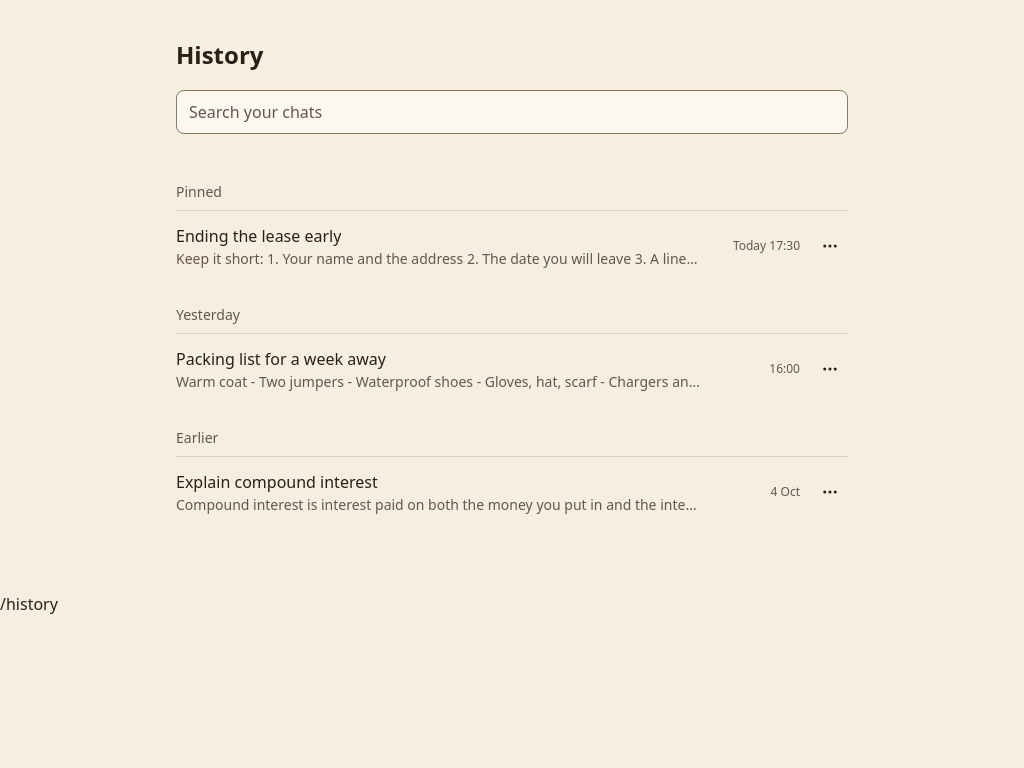
Test: History row actions › delete asks first: Keep it keeps, Delete chat deletes
The width and height of the screenshot is (1024, 768).
Click the button named "More for Ending the lease early" at [830, 246], box [812,228,848,264]
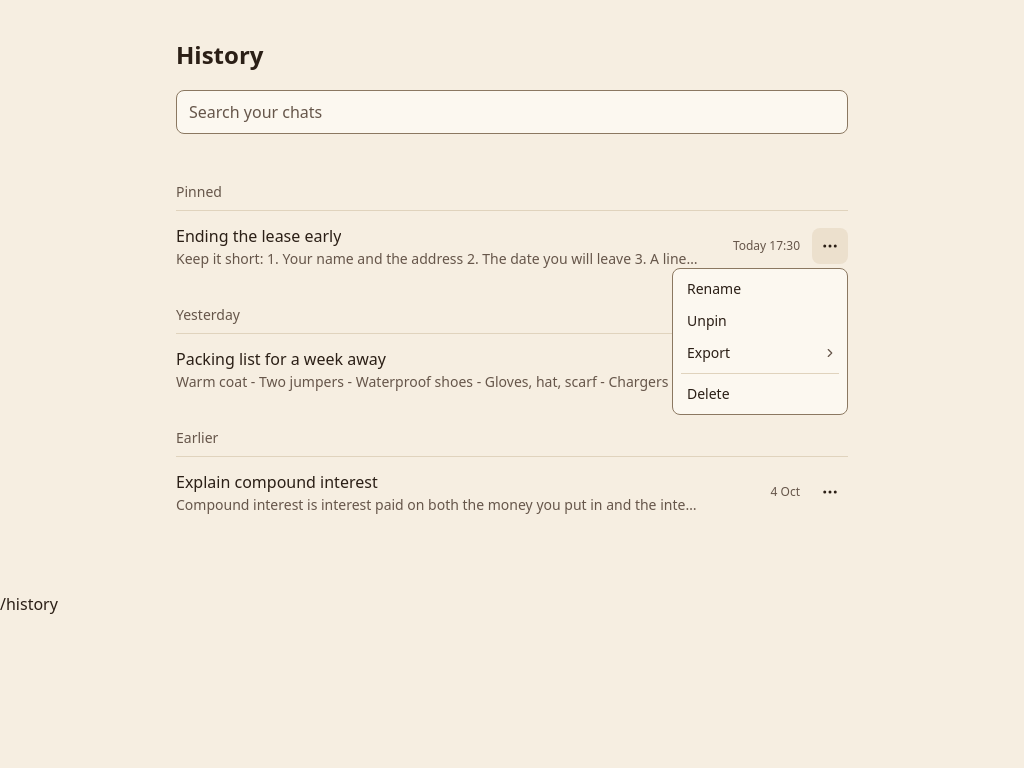
Click the menu item "Delete" at [708, 394], box [687,384,730,403]
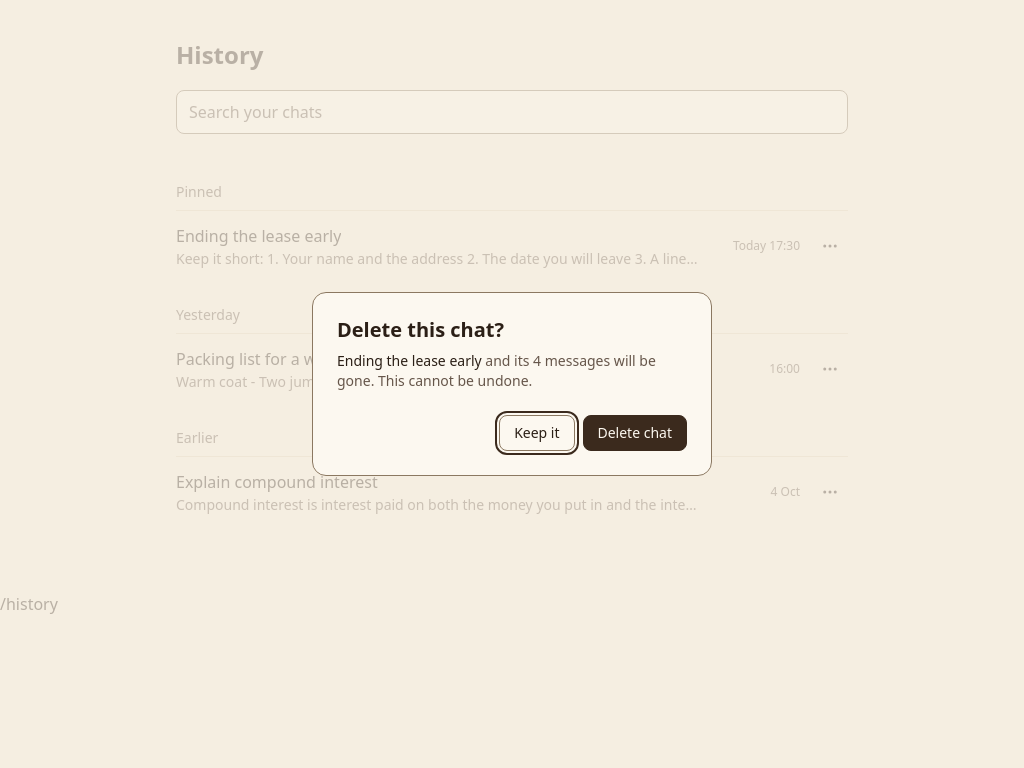
Expected: the dialog "Delete this chat?" shows "Ending the lease early and its 4 messages will be gone. This cannot be undone.", [312,292,712,476]
Click the button "Keep it" at [537, 433], box [499,415,574,451]
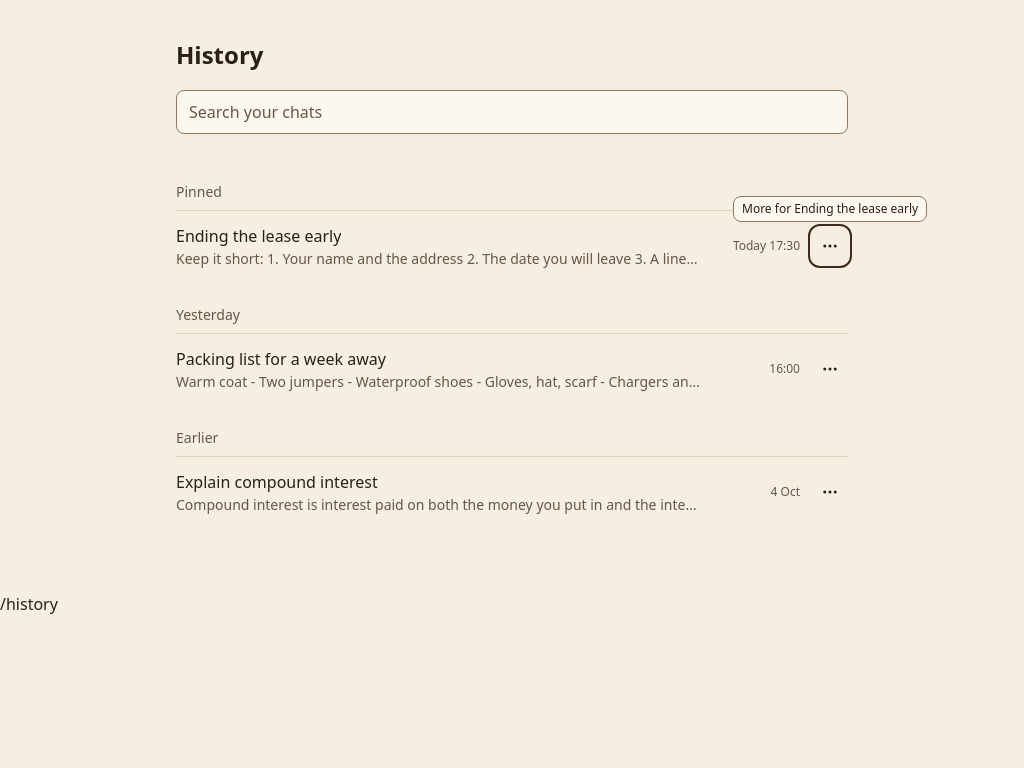
Expected: the dialog is gone
Click the button named "More for Ending the lease early" at [830, 246], box [812,228,848,264]
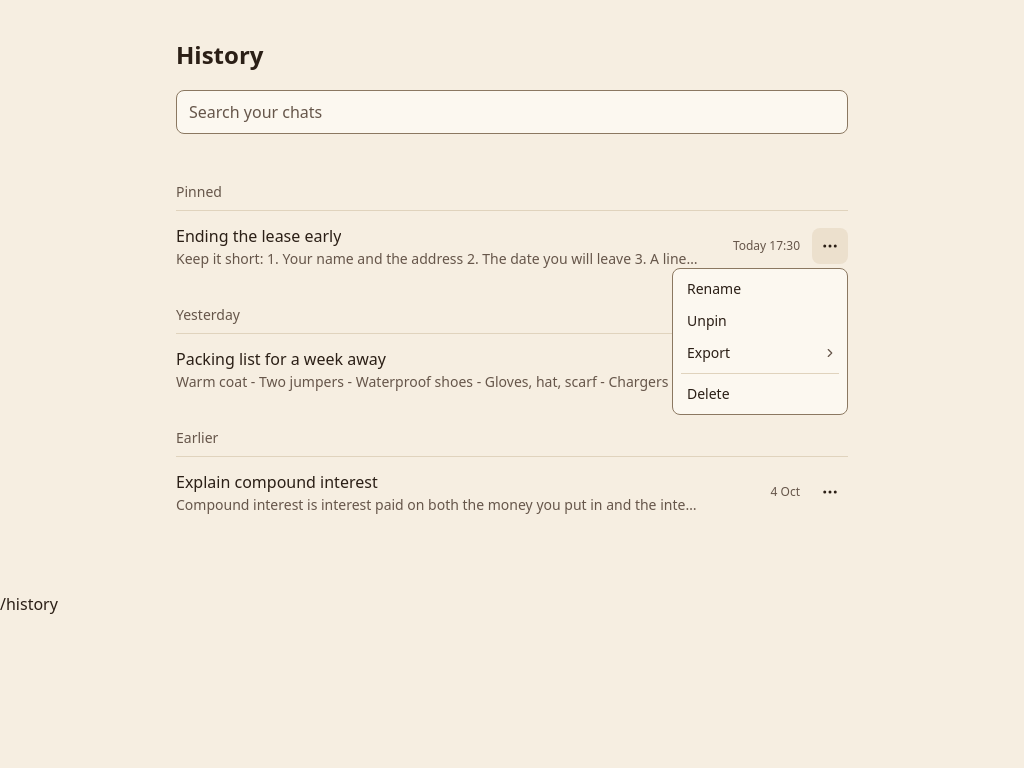
Click the menu item "Delete" at [708, 394], box [687,384,730,403]
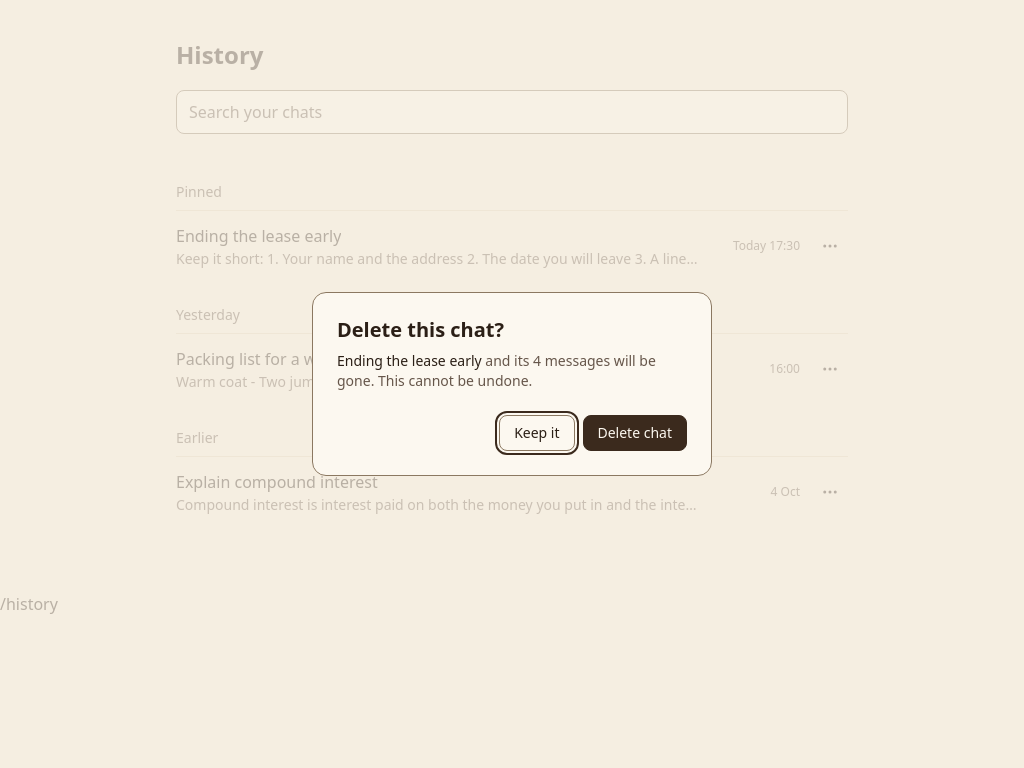
Click the button "Delete chat" at [635, 433], box [582,415,687,451]
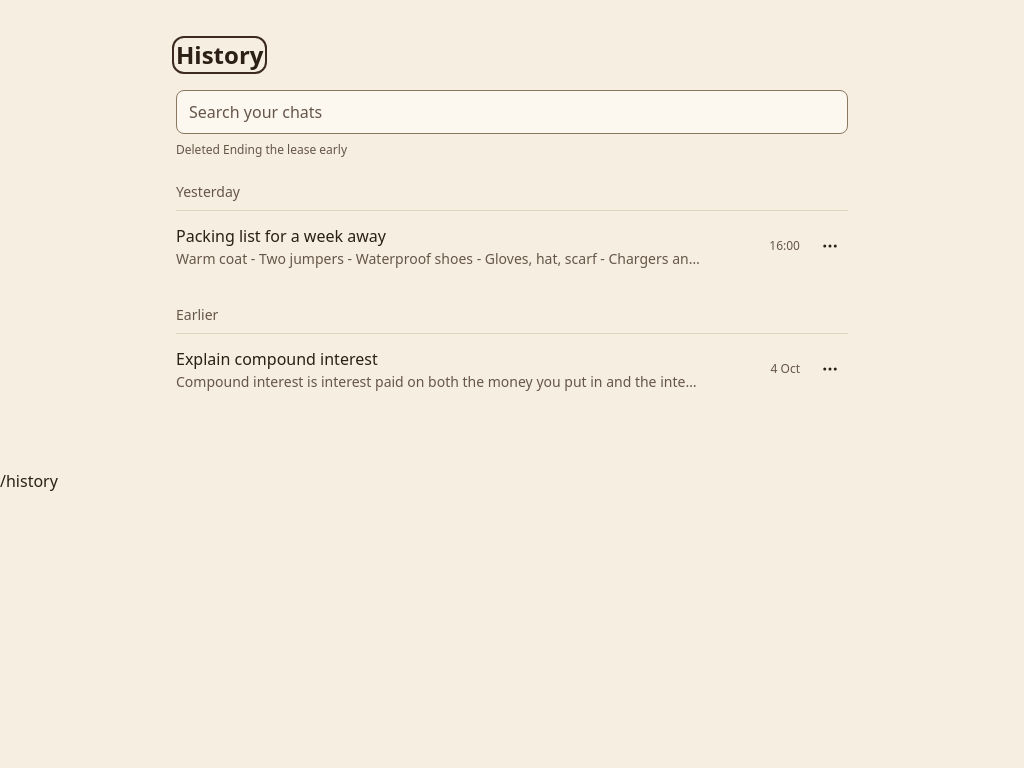
Expected: the text "Deleted Ending the lease early" is shown, [176,141,347,158]
